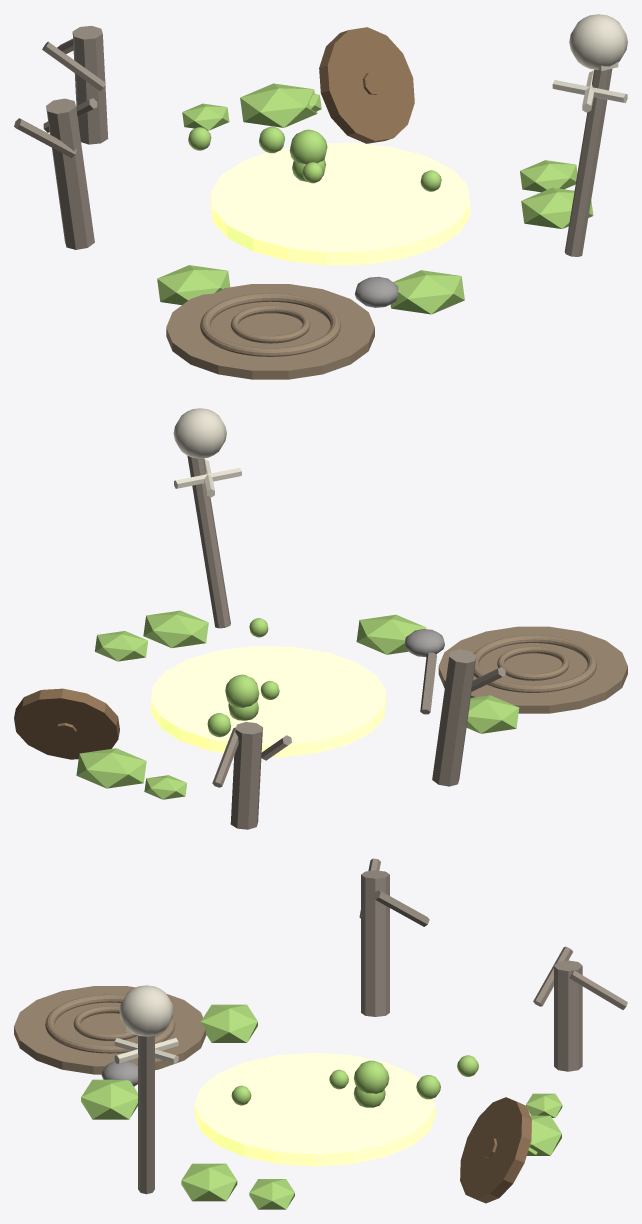
File: hazard.glb
The picture shows the model from 3 angles, top to bottom: view 1: azimuth 30°, elevation 25°; view 2: azimuth 150°, elevation 25°; view 3: azimuth 270°, elevation 25°; orthographic projection. The views are drawn at different scales.
Visible parts, largest first — view 1: toxic_core, qs_base, hz_wheel, hz_trunk0, stake, qs_ring1, hz_trunk1, sludge6, hz_skull, sludge5, sludge1, sludge3 (+9 smaller); view 2: toxic_core, qs_base, hz_wheel, hz_trunk0, hz_trunk1, stake, qs_ring1, sludge6, hz_skull, sludge3, sludge5, sludge1 (+7 smaller); view 3: toxic_core, qs_base, hz_wheel, hz_trunk0, hz_trunk1, stake, hz_skull, sludge5, sludge1, sludge3, qs_ring1, sludge0 (+8 smaller).
Part boxes in pixels (x1=…): toxic_core: x1=210, y1=142, x2=470, y2=265; qs_base: x1=166, y1=284, x2=374, y2=379; hz_wheel: x1=319, y1=27, x2=414, y2=143; hz_trunk0: x1=46, y1=98, x2=94, y2=249; stake: x1=564, y1=68, x2=612, y2=256; qs_ring1: x1=200, y1=293, x2=340, y2=356; hz_trunk1: x1=72, y1=25, x2=108, y2=144; sludge6: x1=240, y1=83, x2=317, y2=127; hz_skull: x1=569, y1=14, x2=627, y2=69; sludge5: x1=390, y1=270, x2=464, y2=314; sludge1: x1=157, y1=265, x2=230, y2=304; sludge3: x1=521, y1=187, x2=593, y2=228; toxic_core: x1=151, y1=646, x2=386, y2=757; qs_base: x1=438, y1=626, x2=627, y2=713; hz_wheel: x1=14, y1=688, x2=119, y2=759; hz_trunk0: x1=432, y1=649, x2=476, y2=786; hz_trunk1: x1=230, y1=722, x2=262, y2=829; stake: x1=187, y1=456, x2=230, y2=628; qs_ring1: x1=474, y1=635, x2=597, y2=692; sludge6: x1=76, y1=748, x2=146, y2=788; hz_skull: x1=173, y1=408, x2=226, y2=458; sludge3: x1=143, y1=610, x2=208, y2=648; sludge5: x1=356, y1=614, x2=426, y2=654; sludge1: x1=466, y1=695, x2=519, y2=733; toxic_core: x1=194, y1=1052, x2=435, y2=1166; qs_base: x1=14, y1=986, x2=206, y2=1074; hz_wheel: x1=460, y1=1097, x2=531, y2=1203; hz_trunk0: x1=361, y1=870, x2=389, y2=1016; hz_trunk1: x1=554, y1=960, x2=582, y2=1071; stake: x1=138, y1=1035, x2=154, y2=1194; hz_skull: x1=119, y1=985, x2=173, y2=1036; sludge5: x1=81, y1=1079, x2=137, y2=1119; sludge1: x1=200, y1=1004, x2=257, y2=1042; sludge3: x1=181, y1=1163, x2=237, y2=1201; qs_ring1: x1=45, y1=994, x2=175, y2=1053; sludge0: x1=249, y1=1179, x2=294, y2=1209.
Bounding box in the file's own units: 0.8944 × 0.4157 × 1.02.
